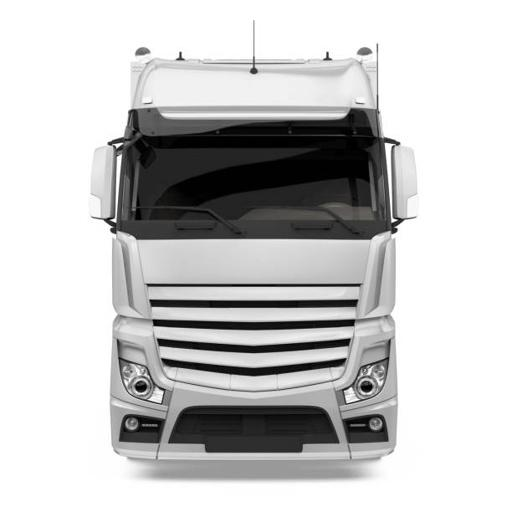truck: (84, 32, 422, 465)
